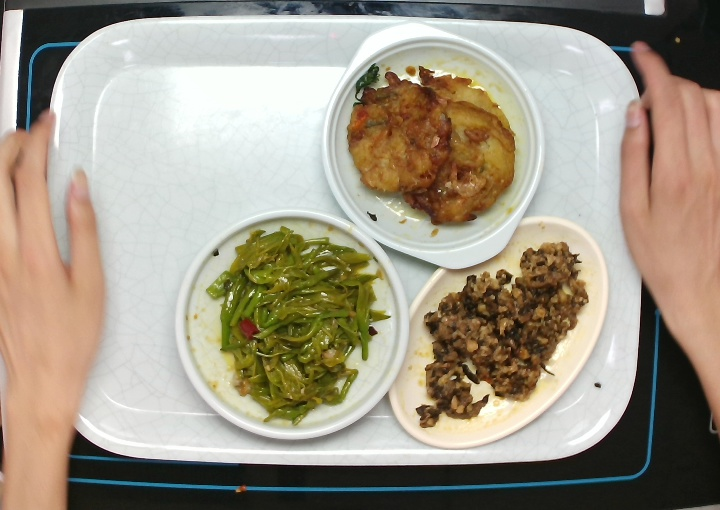JYsf-Shuang_Er_Pan: (317, 18, 551, 274)
JYsf-Tuo_Yuan_Wan: (384, 212, 614, 454)
JYsf-Xiao_Yuan_Pan: (170, 204, 414, 445)
